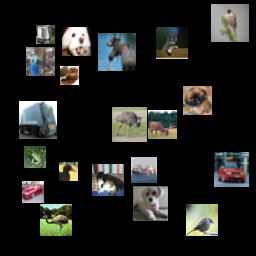automobile: (214, 152, 249, 187), (22, 181, 44, 203)
bird: (211, 4, 249, 42), (112, 107, 147, 142), (186, 204, 218, 236), (40, 204, 72, 236), (26, 47, 55, 76), (59, 162, 78, 181)
cat: (92, 164, 124, 196), (156, 27, 188, 59), (60, 66, 79, 85)
deer: (98, 33, 136, 71), (148, 110, 177, 139)
dog: (133, 186, 168, 221), (183, 86, 212, 115), (62, 27, 91, 56)
frog: (24, 146, 46, 168)
ship: (131, 157, 157, 183)
